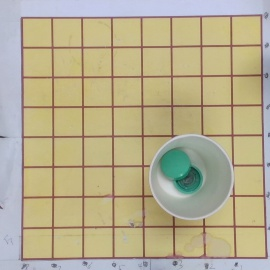cup_green: (147, 133, 235, 220)
